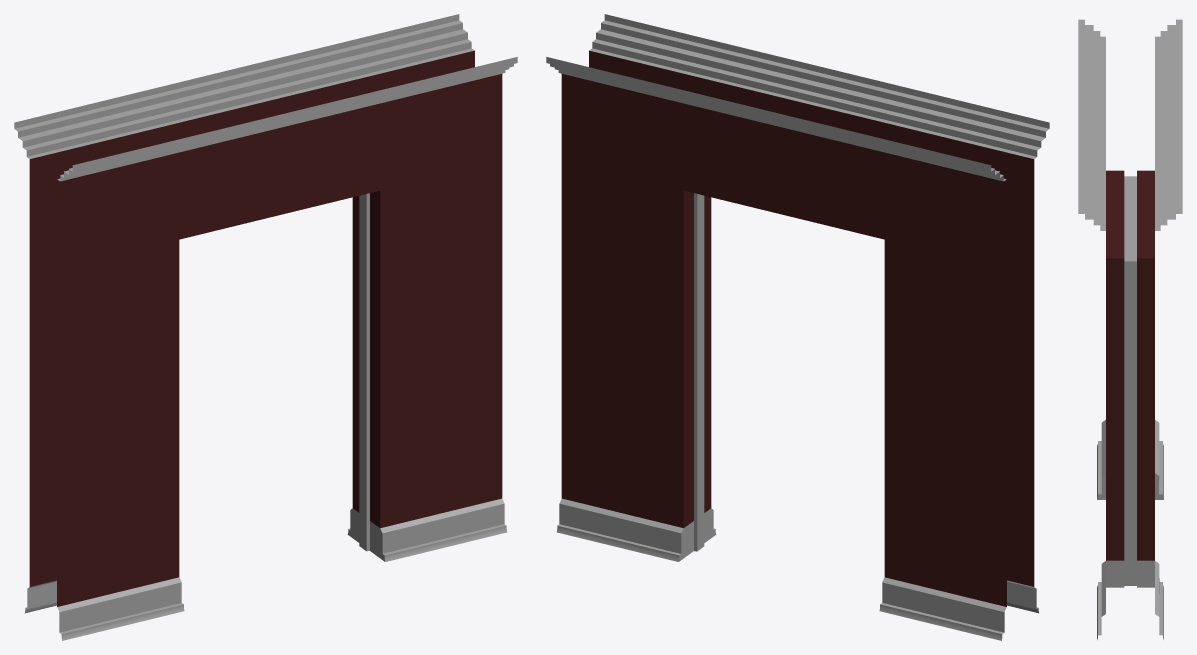
Rendered from ContemporaryDoorFrameNoMoulding.fbx.
3 renders of one model, left to right at view 1: azimuth 30°, elevation 25°; view 2: azimuth 150°, elevation 25°; view 3: azimuth 270°, elevation 25°, orthographic. The views are drawn at different scales.
Parts seen in each view (by area): view 1: WallOneSide14; view 2: WallOneSide14; view 3: WallOneSide14.
Boxes of the visible parts, x1,y1,x2,y2 form: WallOneSide14: [14, 14, 517, 640]; WallOneSide14: [546, 14, 1049, 640]; WallOneSide14: [1078, 19, 1182, 639].
Bounding box in the file's own units: 3.47 × 3.6 × 0.7887.
